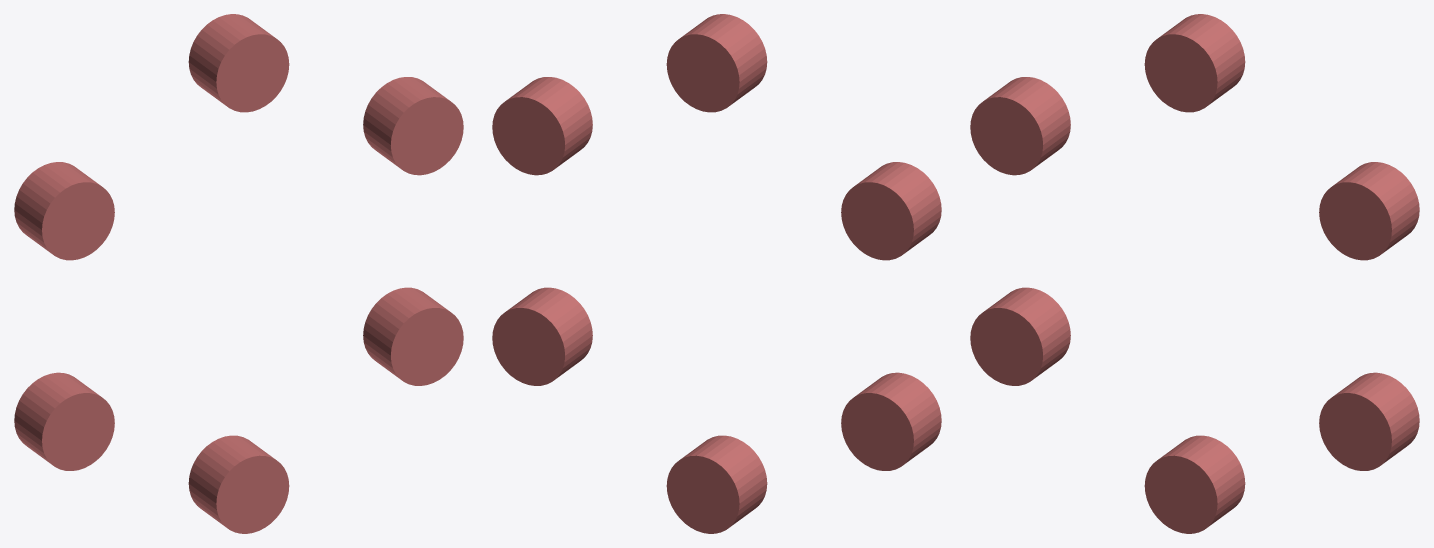
File: MP-ISO.glb
The picture shows the model from 3 angles, left to right: view 1: azimuth 30°, elevation 25°; view 2: azimuth 150°, elevation 25°; view 3: azimuth 330°, elevation 25°; orthographic projection.
Parts seen in each view (by area): view 1: geometry_0; view 2: geometry_0; view 3: geometry_0.
Part boxes in pixels (x1,y1,x2,y2): geometry_0: (14,14,463,533); geometry_0: (492,14,941,533); geometry_0: (970,14,1419,533).
Size of the model in its own units: 220 by 248 by 25.
